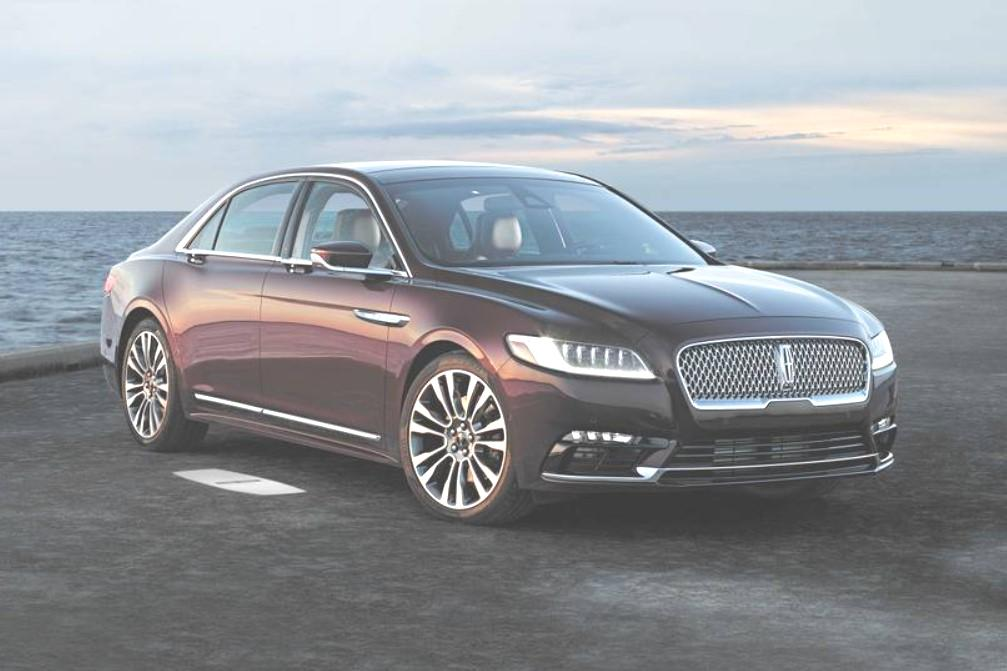lincoln: (772, 336, 798, 392)
